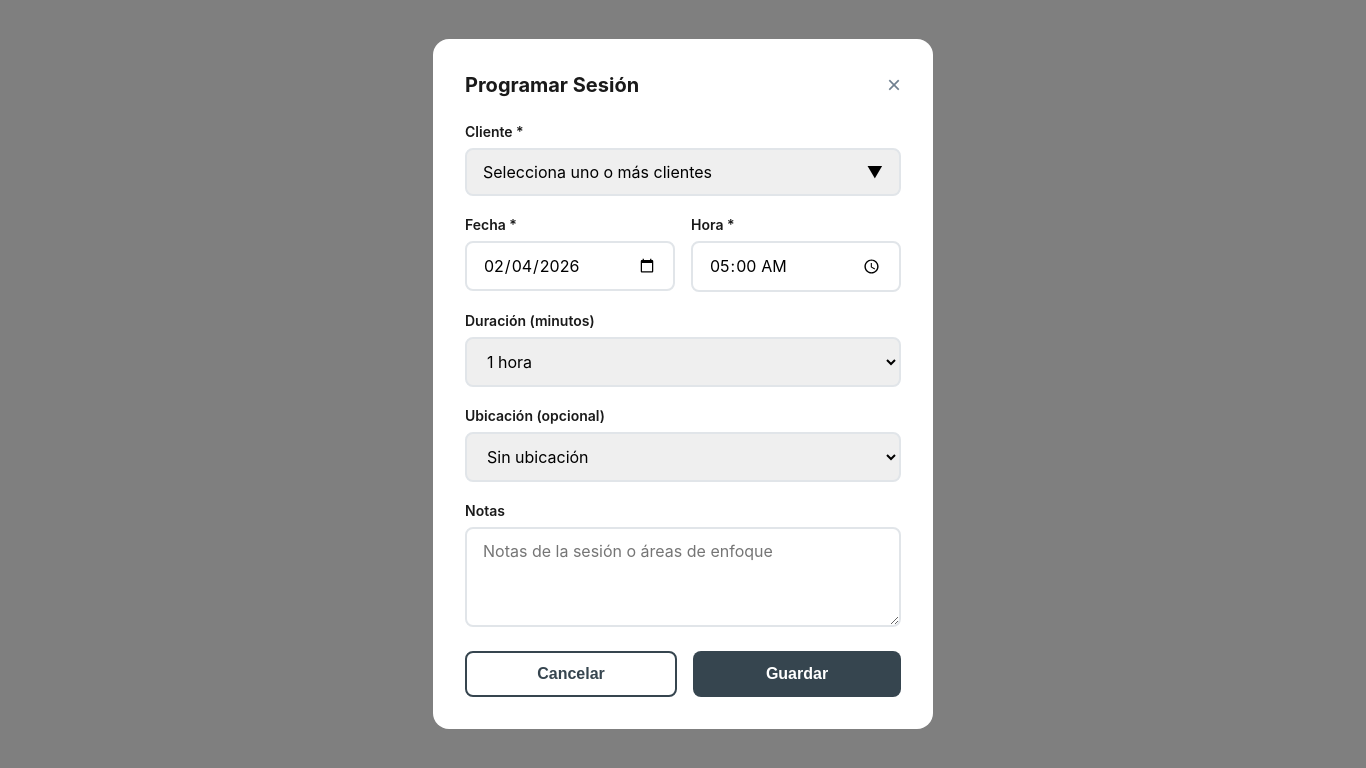
Test case: SessionModal › allows selecting multiple clients
The image size is (1366, 768).
# Open dropdown
Click the text "Selecciona uno o más clientes".
click(598, 172)  # box [483,162,712,182]
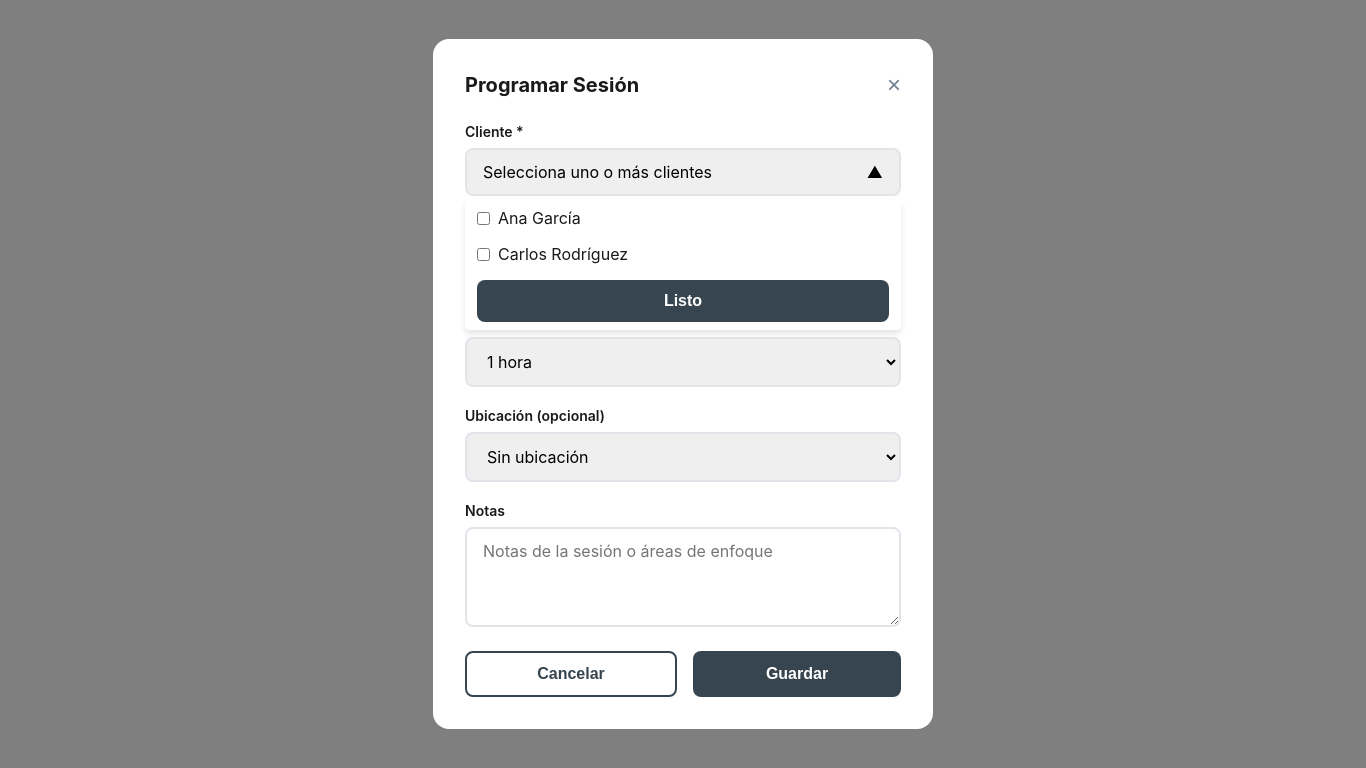
# Select Ana
Click the text "Ana García".
click(539, 218)  # box [498,208,581,228]
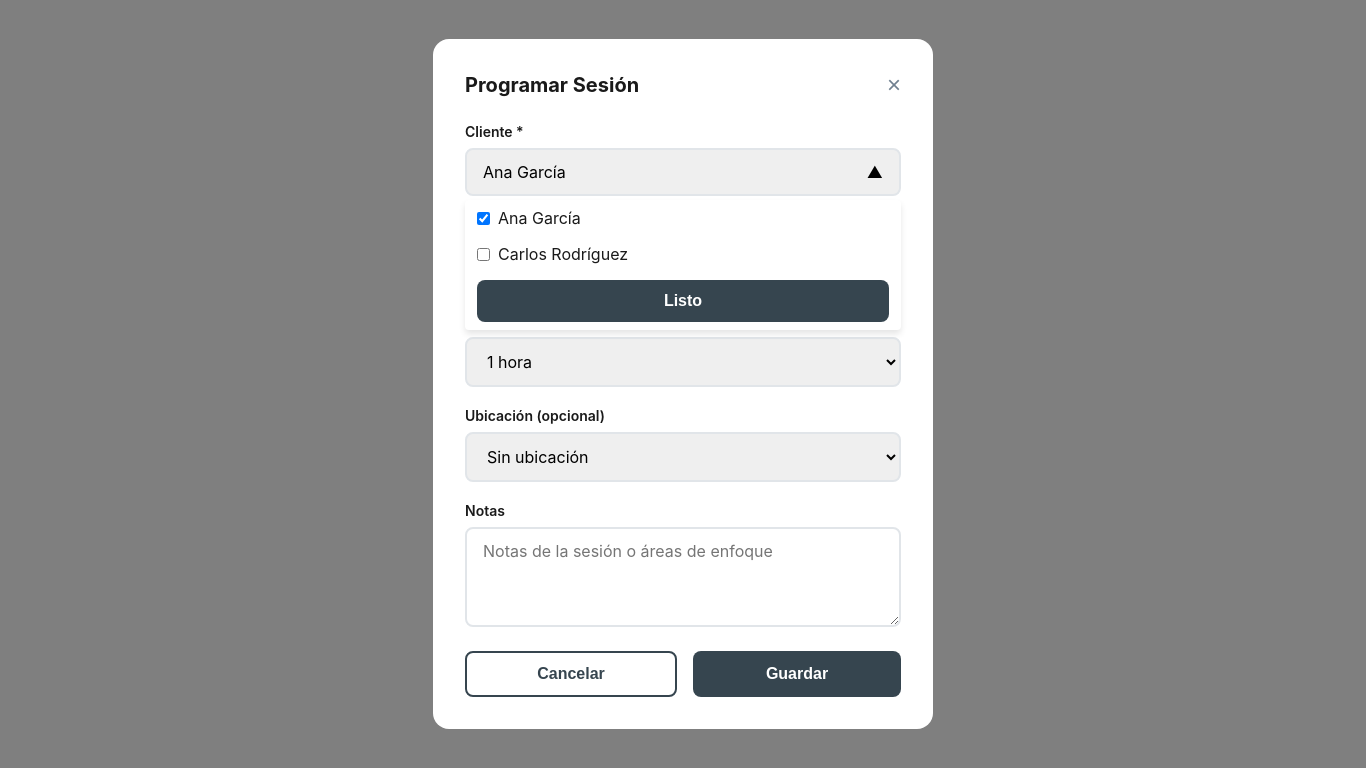
# Select Carlos
Click the text "Carlos Rodríguez".
click(563, 254)  # box [498,244,628,264]
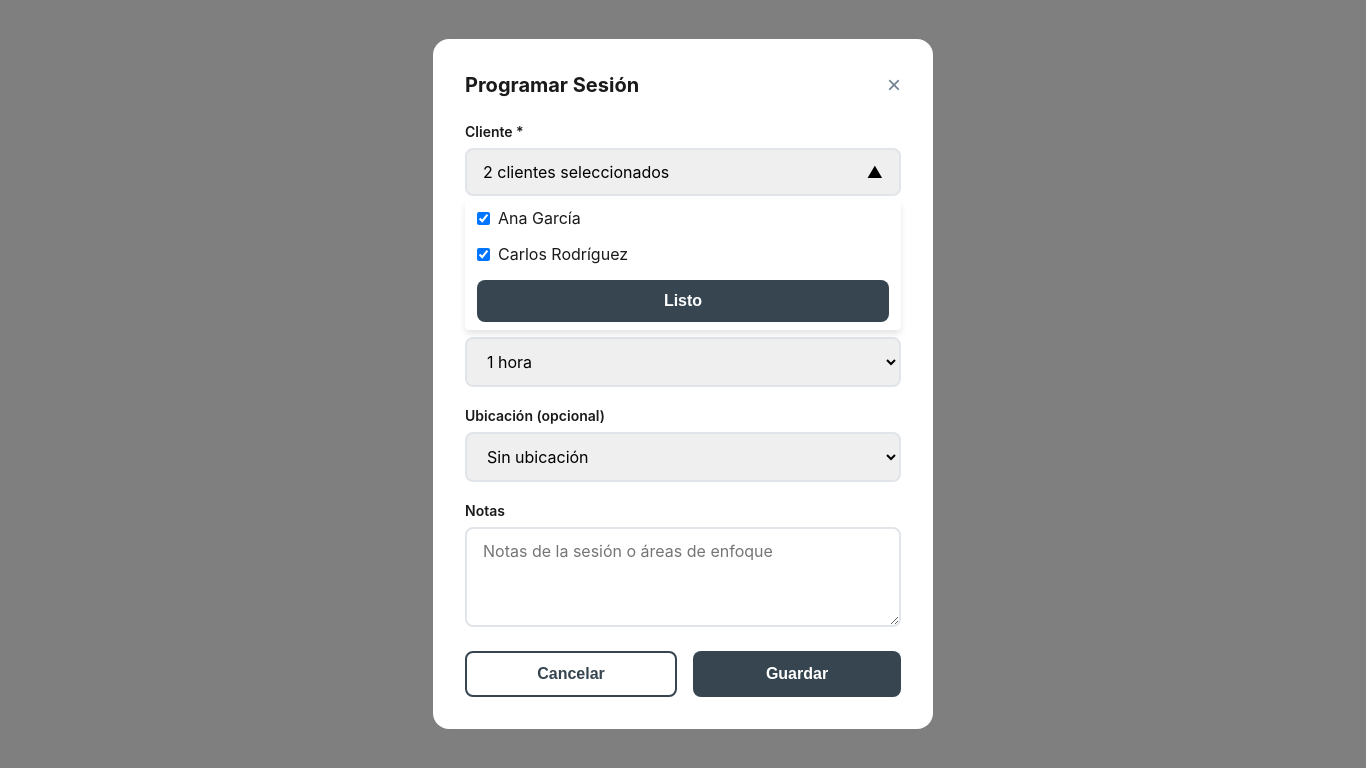
Result: the text "2 clientes seleccionados" is shown at [483,162,669,182]
